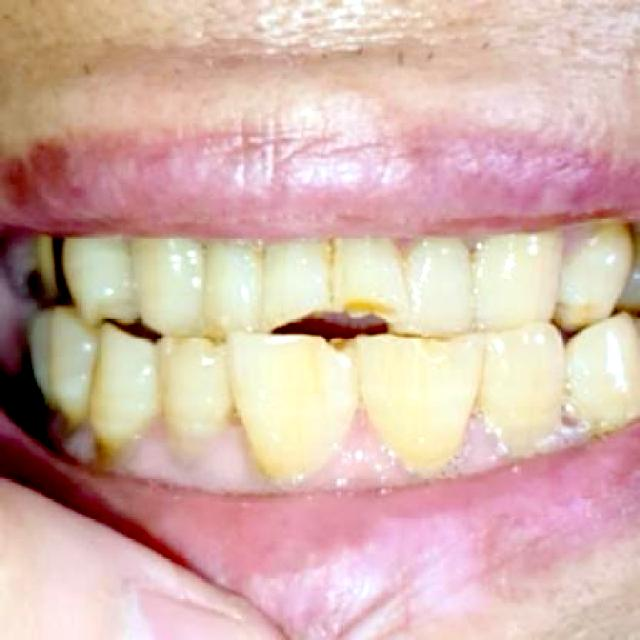Plaque: (560, 222, 611, 254), (388, 236, 431, 263), (458, 233, 488, 259)
